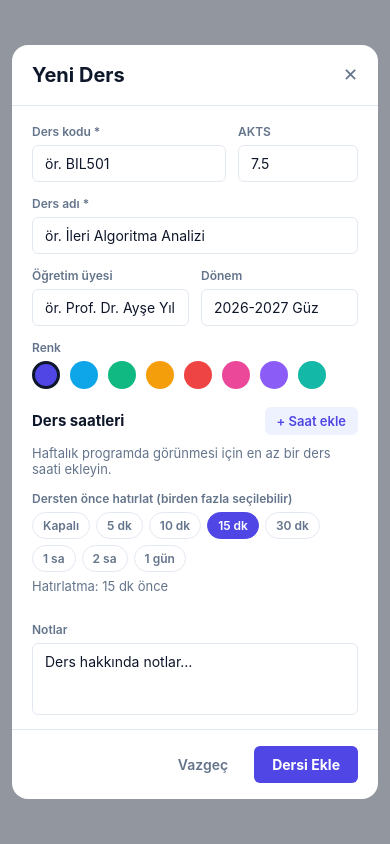
Test: CourseForm — doğrulama › zorunlu alanlar boşken kaydetmez ve hataları gösterir
The image size is (390, 844).
Step 1. Click the text "Dersi Ekle" → [306, 765], box [272,756,340,773]
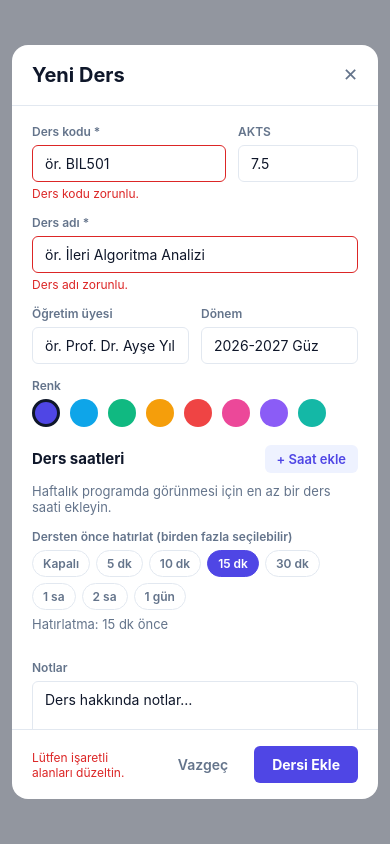
Expected: the text "Ders kodu zorunlu." is shown, [32,186,139,201]
Expected: the text "Ders adı zorunlu." is shown, [32,277,128,292]
Expected: the text "Lütfen işaretli alanları düzeltin." is shown, [32,750,124,780]
